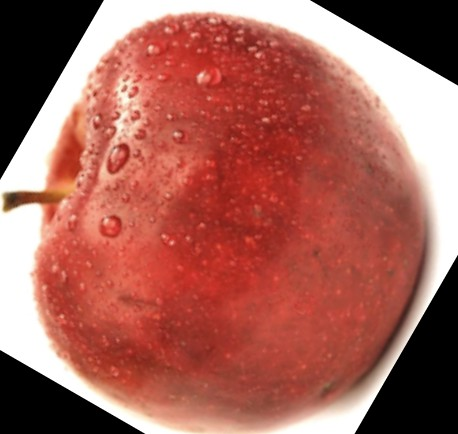fresh_apple: (31, 13, 428, 433)
